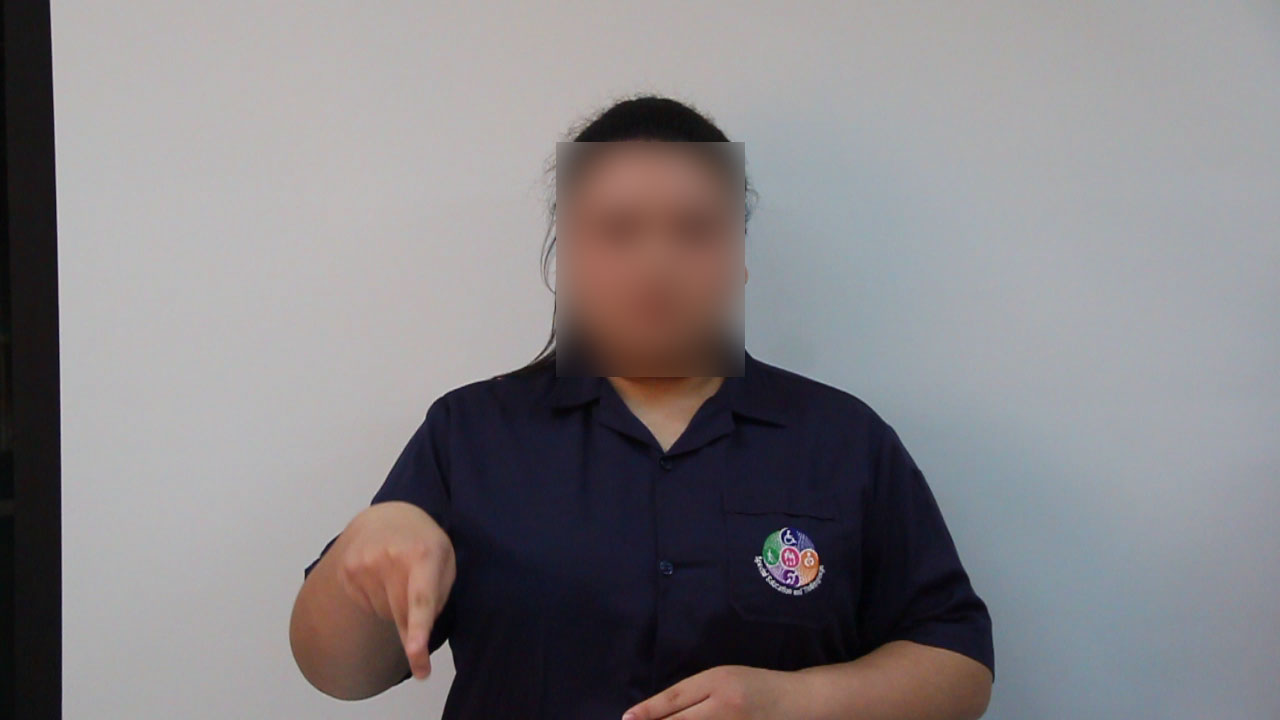por: (324, 495, 470, 688)
